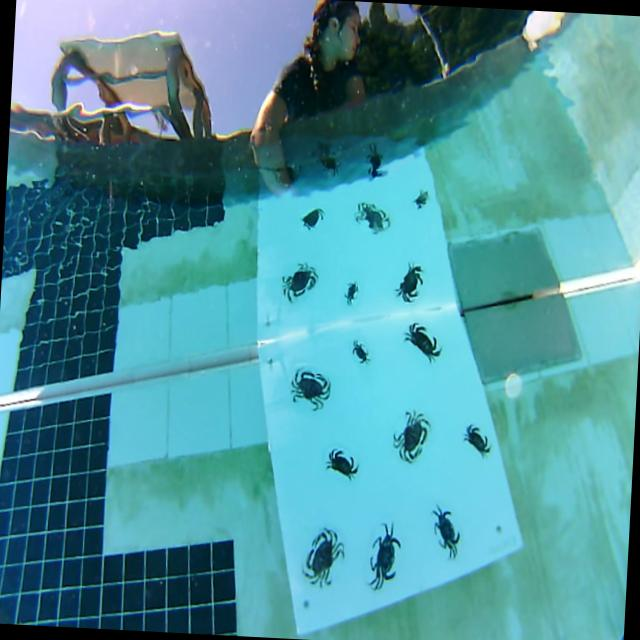green_crab: (369, 523, 401, 589), (432, 505, 460, 558), (353, 340, 369, 363)
jonah_crab: (303, 528, 344, 586), (394, 411, 430, 463), (291, 370, 330, 409)
rock_crab: (405, 323, 441, 362), (327, 450, 358, 480), (465, 425, 490, 456)
